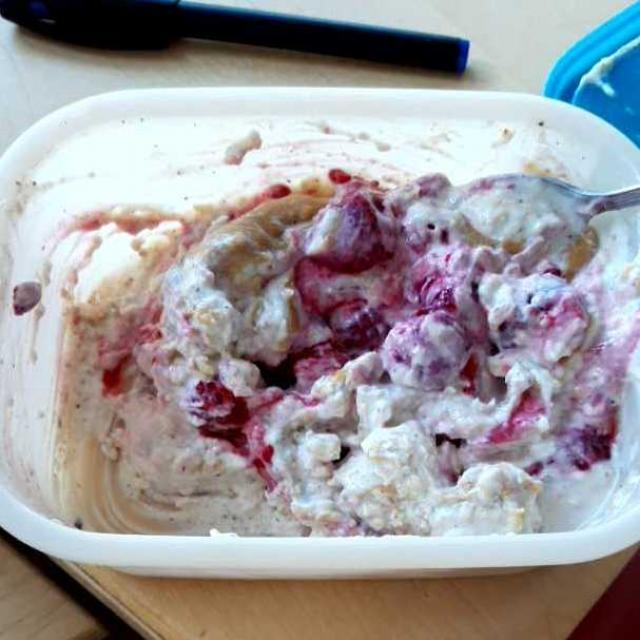curd: (22, 162, 629, 534)
curds: (22, 162, 629, 534)
raspberries: (204, 166, 598, 506), (182, 155, 503, 488)
